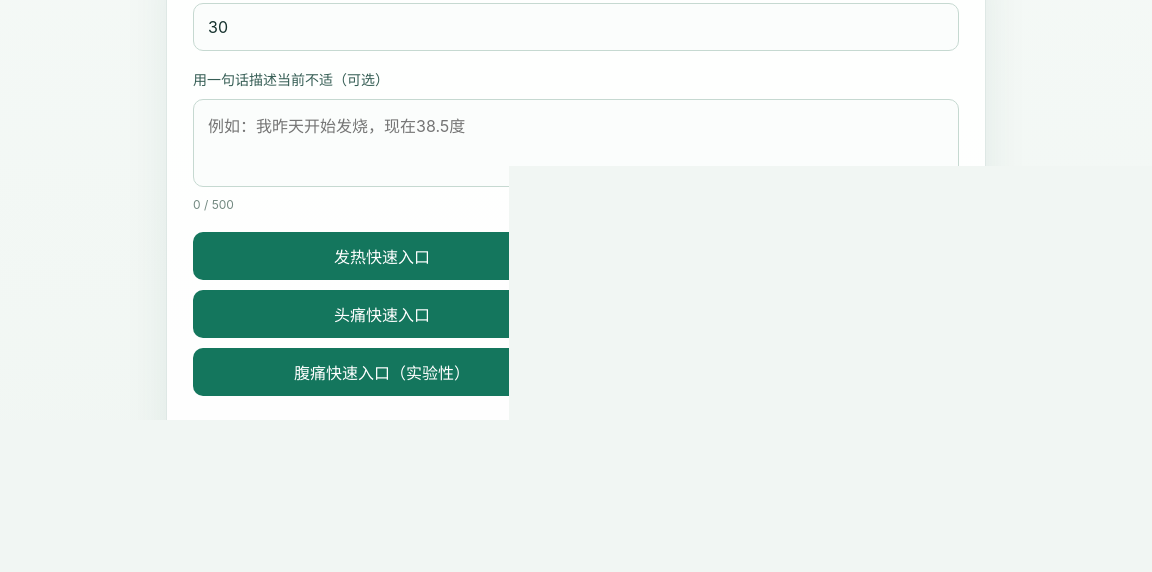
Test: 患者端基础流程 › 结构化确认胸痛后切换到升级提示页
(page scrolled)
Click the button "发热快速入口". click: (382, 256)
box: [193,232,571,280]
(page scrolled)
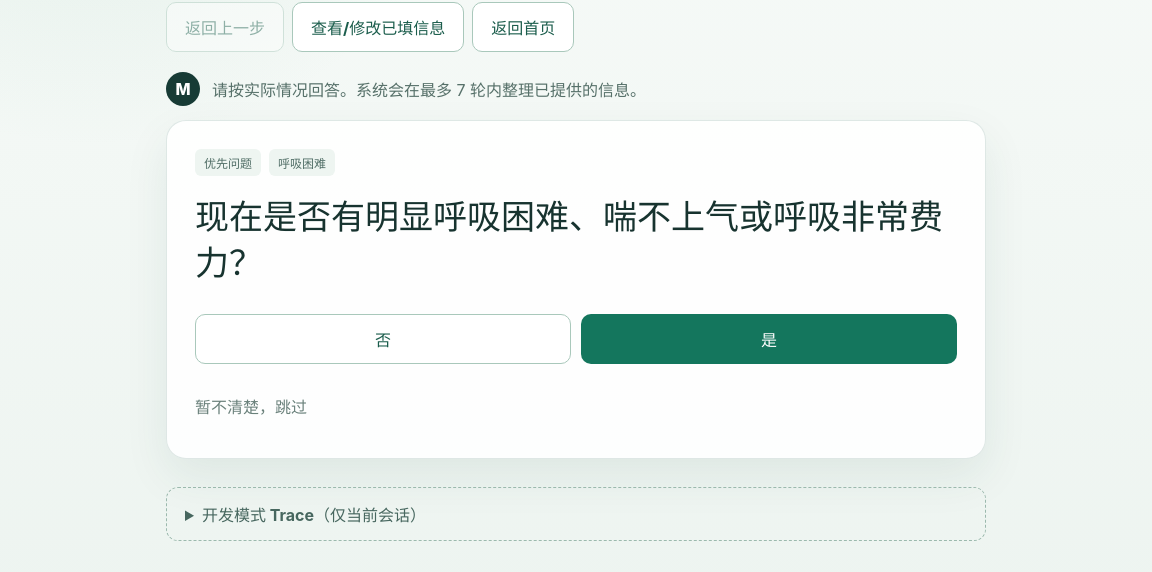
Click the button "否". click: (383, 339)
box: [195,314,571,364]
(page scrolled)
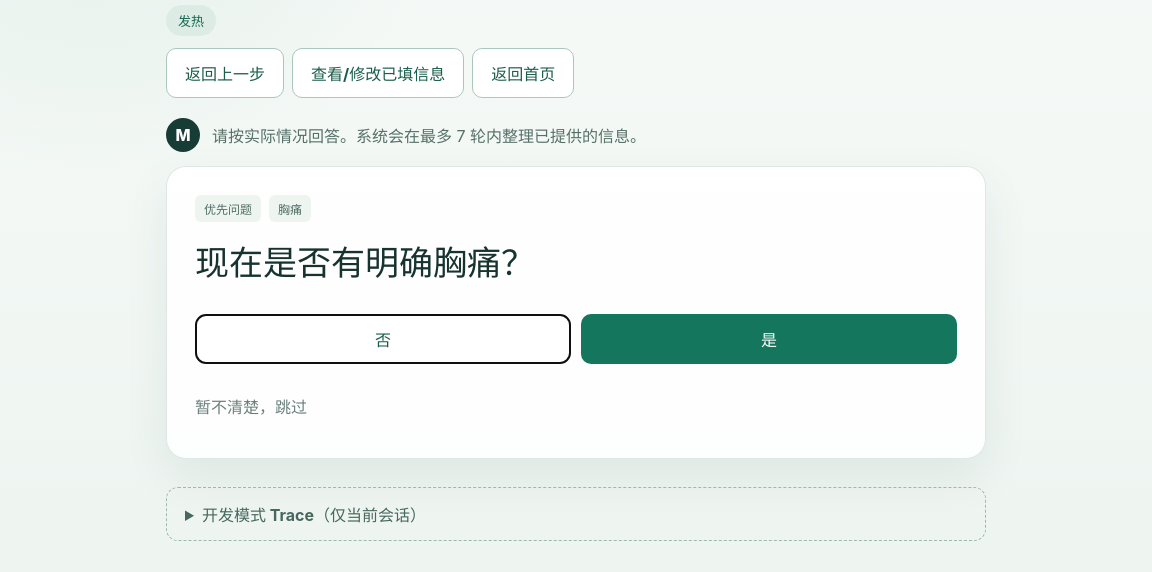
Now the heading "现在是否有明确胸痛？" is shown, box [195,242,535,283]
Click the button "是". click: (769, 339)
box: [581,314,957,364]
(page scrolled)
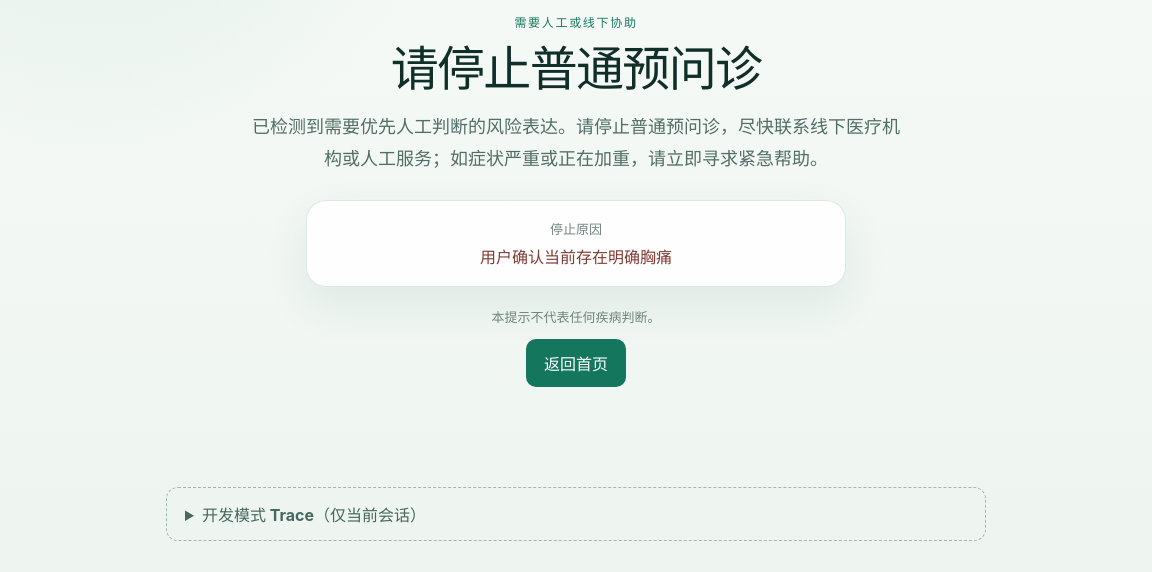
Now the heading "请停止普通预问诊" is shown, box [391,39,761,98]
Now the text "本提示不代表任何疾病判断。" is shown, box [492,309,660,325]
